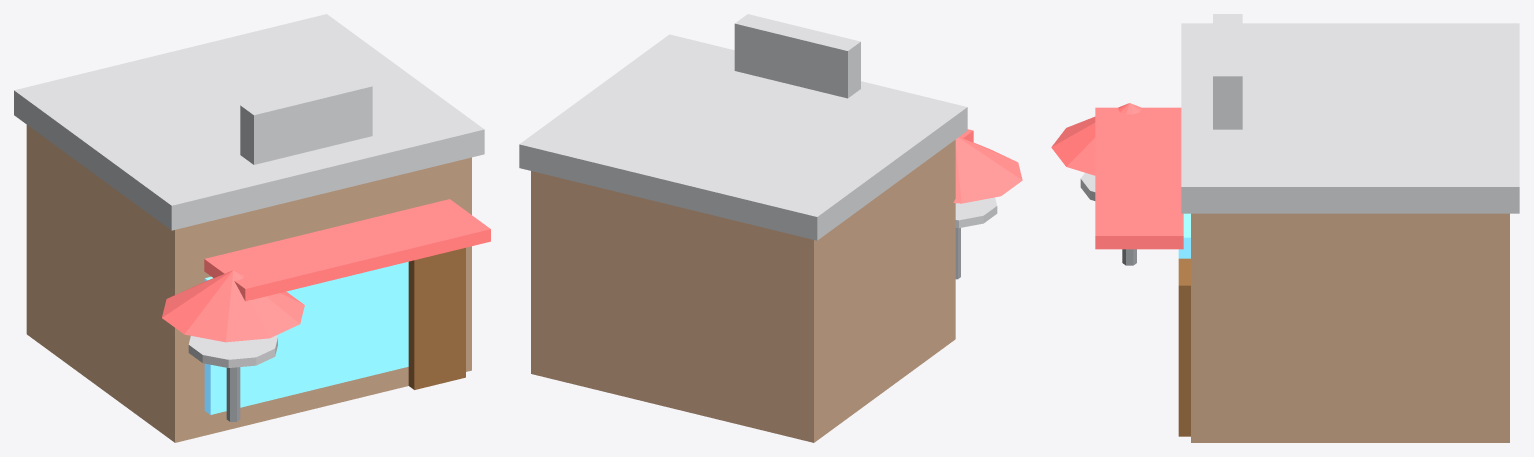
File: cafe.glb
3 renders of one model, left to right at view 1: azimuth 30°, elevation 25°; view 2: azimuth 150°, elevation 25°; view 3: azimuth 270°, elevation 25°, orthographic. The views are drawn at different scales.
Visible parts, largest first — view 1: cafe; view 2: cafe; view 3: cafe.
Part boxes in pixels (x1=…): cafe: x1=14, y1=14, x2=490, y2=442; cafe: x1=519, y1=14, x2=1022, y2=442; cafe: x1=1051, y1=14, x2=1519, y2=442.
Bounding box in the file's own units: 0.8472 × 0.72 × 0.955.
